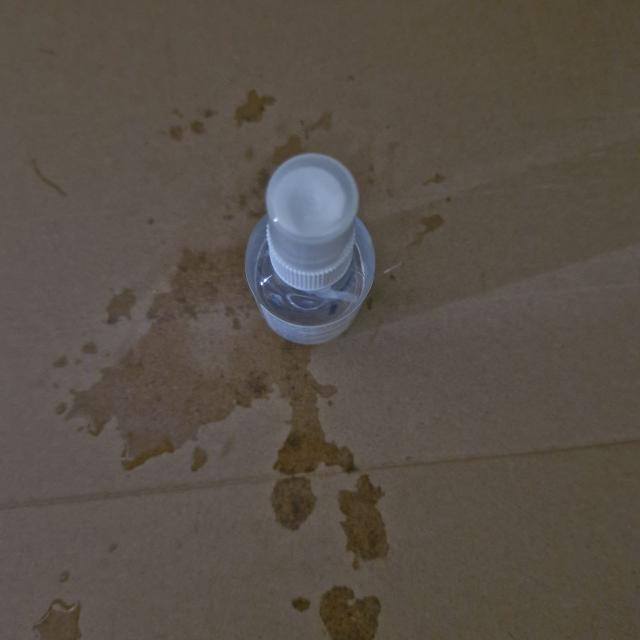plastic: (241, 148, 385, 354)
